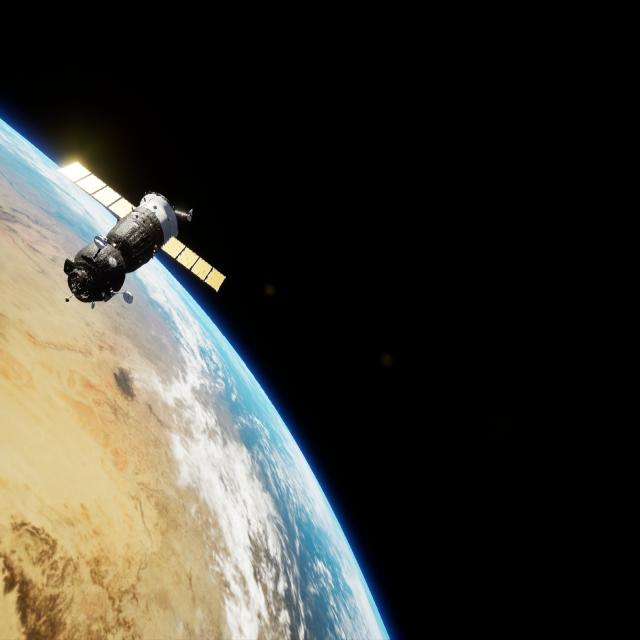Satellites revolving around earth: (1, 115, 391, 638)
